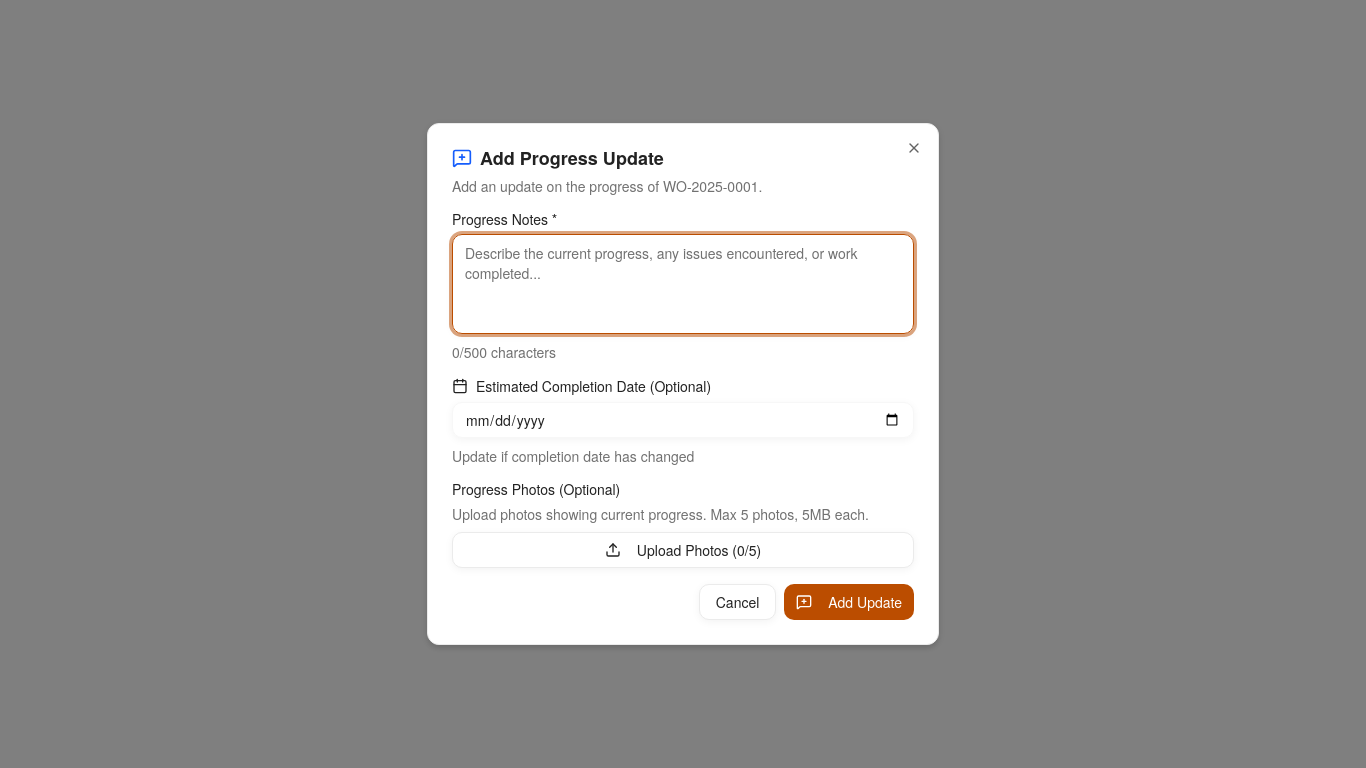
Scenario: ProgressUpdateDialog › should show validation error when progress notes are empty
Click the button "Add Update" at (849, 602), box [784,584,914,620]
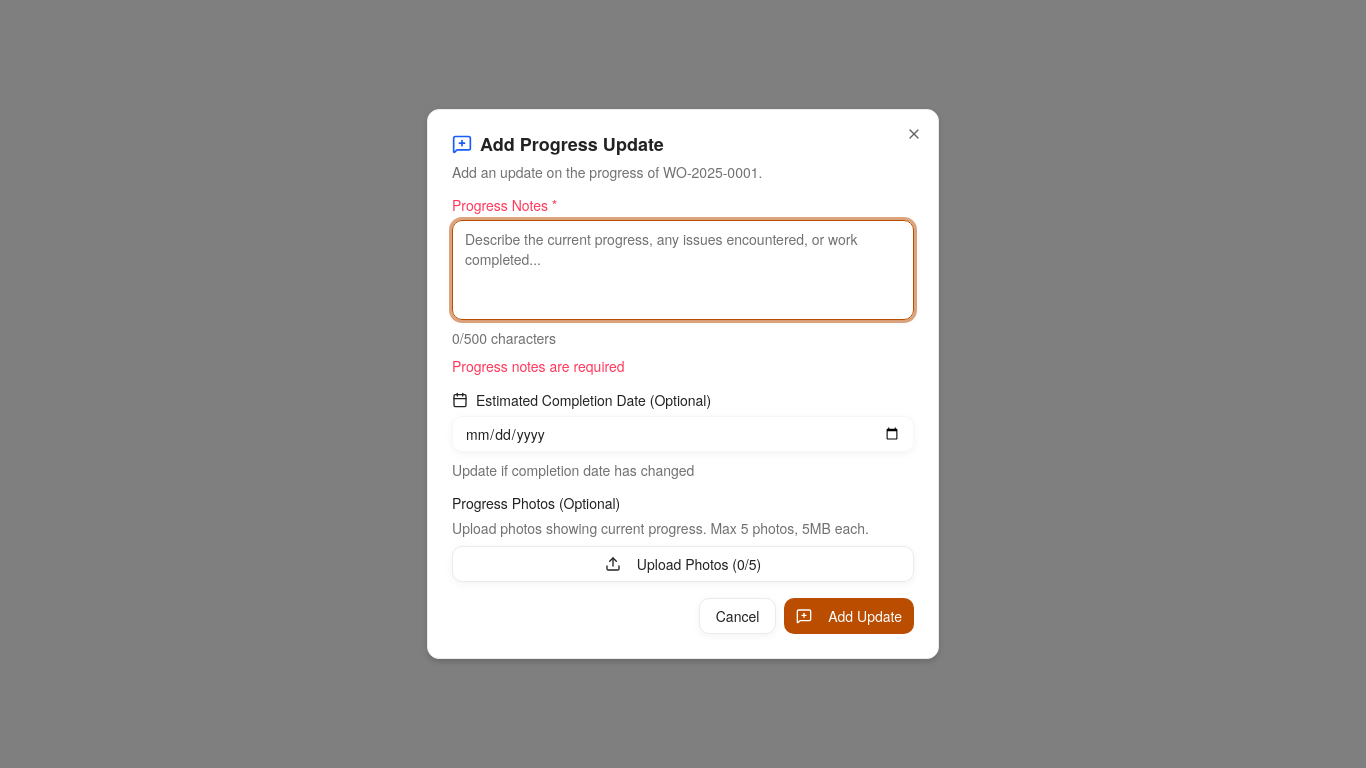
Result: the text "Progress notes are required" is shown at [452,356,625,376]
